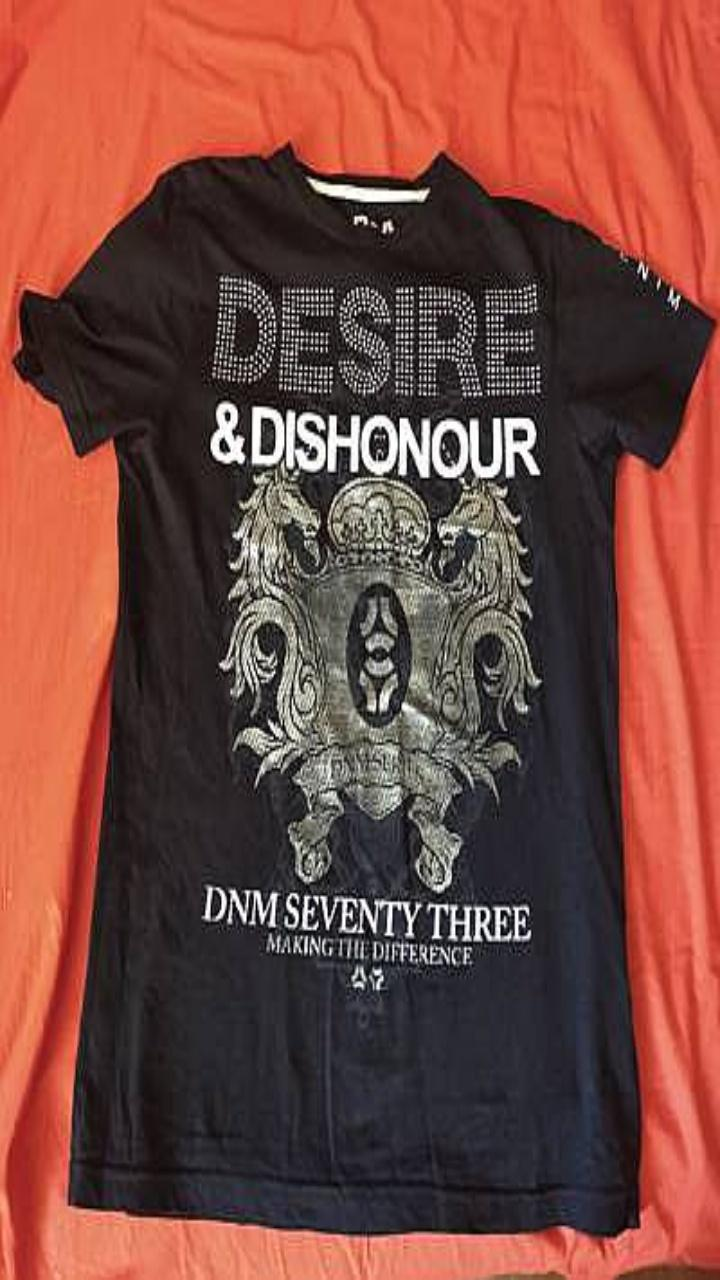T-Shirt: (14, 143, 713, 1235)
